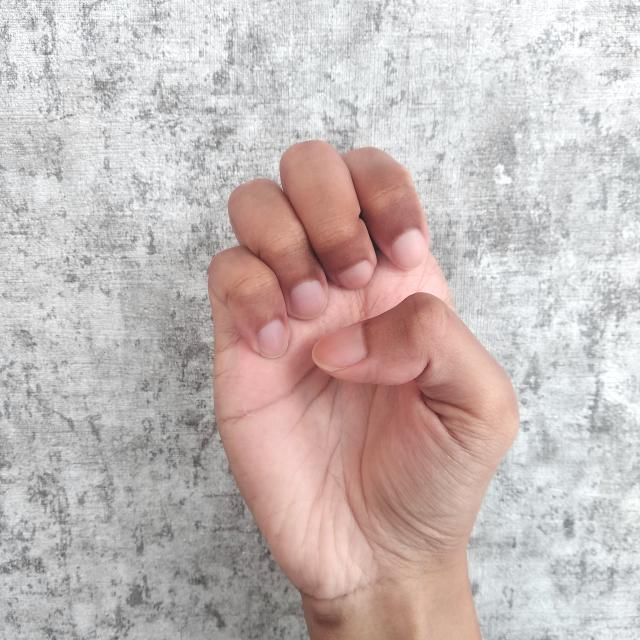E: (210, 135, 528, 640)
